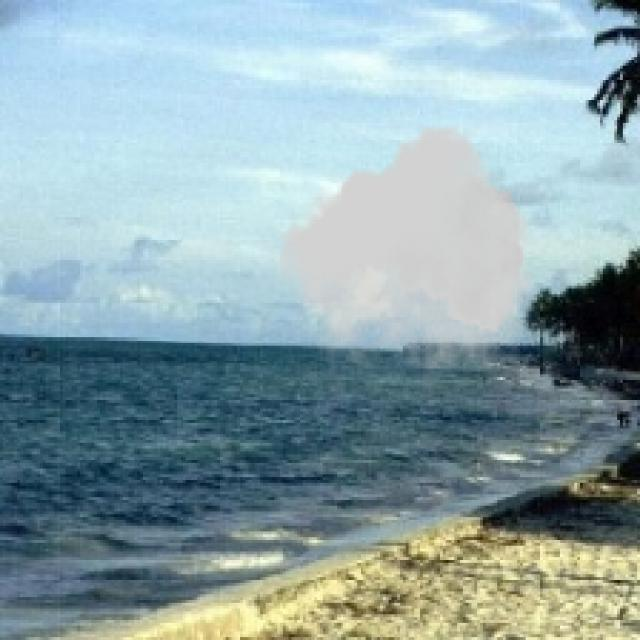smoke: (280, 125, 534, 368)
